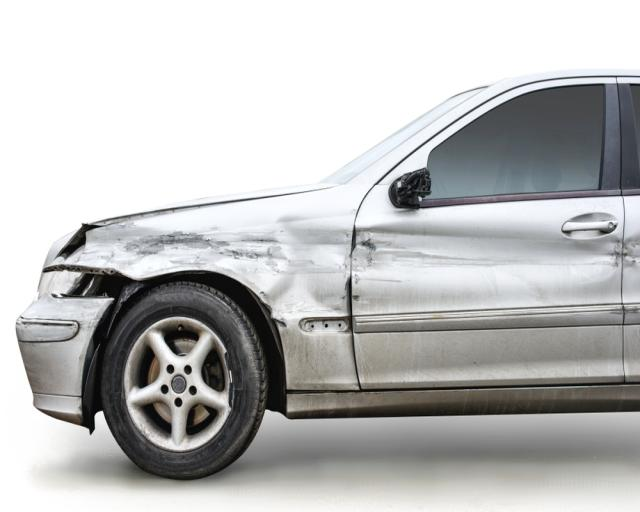dent: (66, 218, 349, 313), (349, 225, 623, 288), (621, 233, 640, 274)
